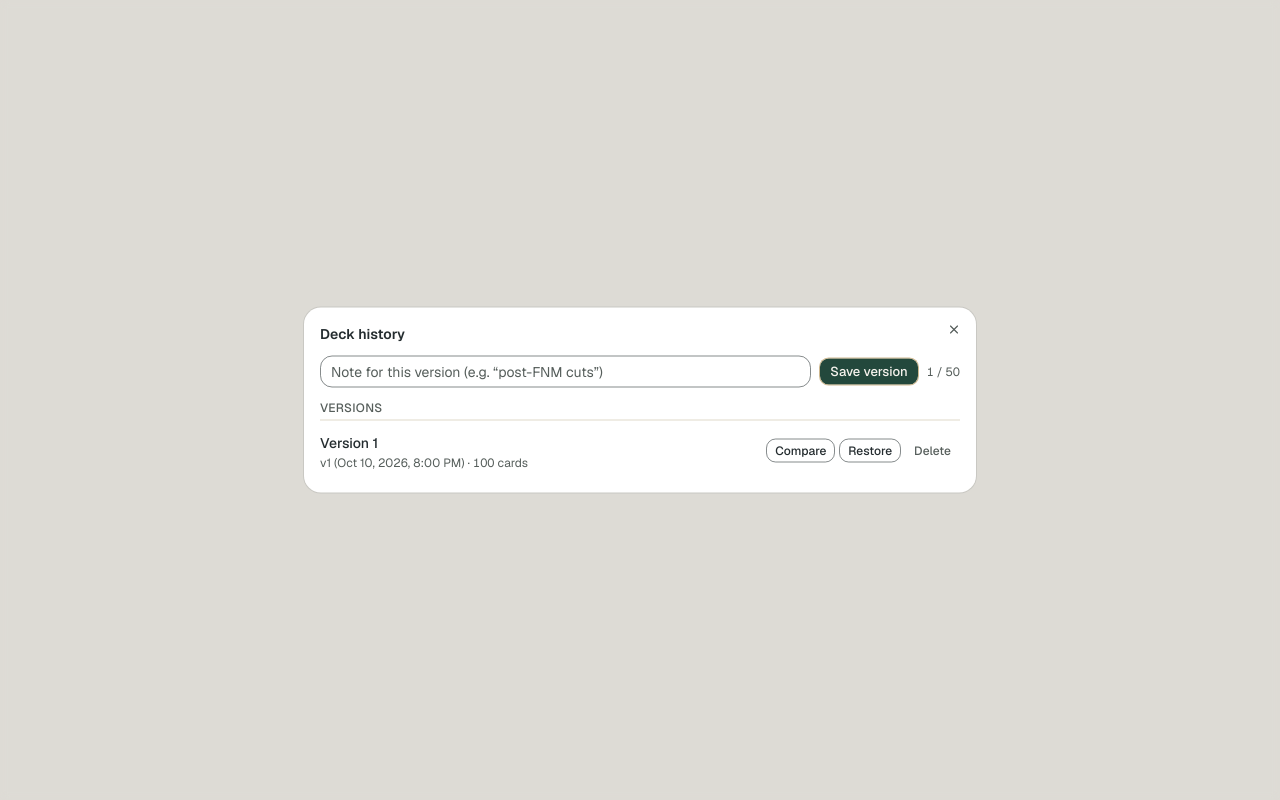
Test: HistoryDialog — Save version › posts the trimmed note, says what it saved, clears the note and reloads
Check: the dialog "Deck history" shows "1 / 50", box [304, 308, 976, 492]
Type "  post-FNM  " into the field named "Version note".
click(566, 372); type("  post-FNM  ")  # box [320, 356, 811, 388]
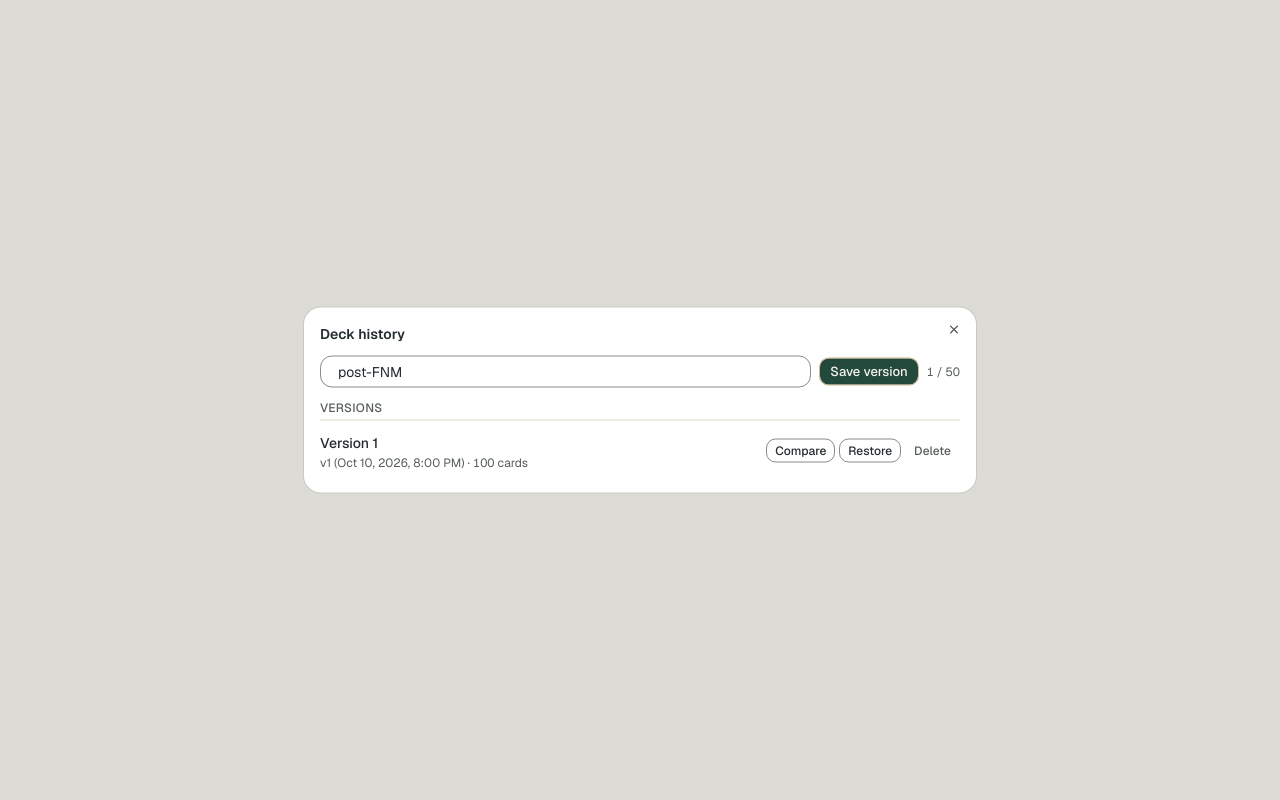
Click the button "Save version".
click(869, 372)  # box [819, 358, 919, 386]
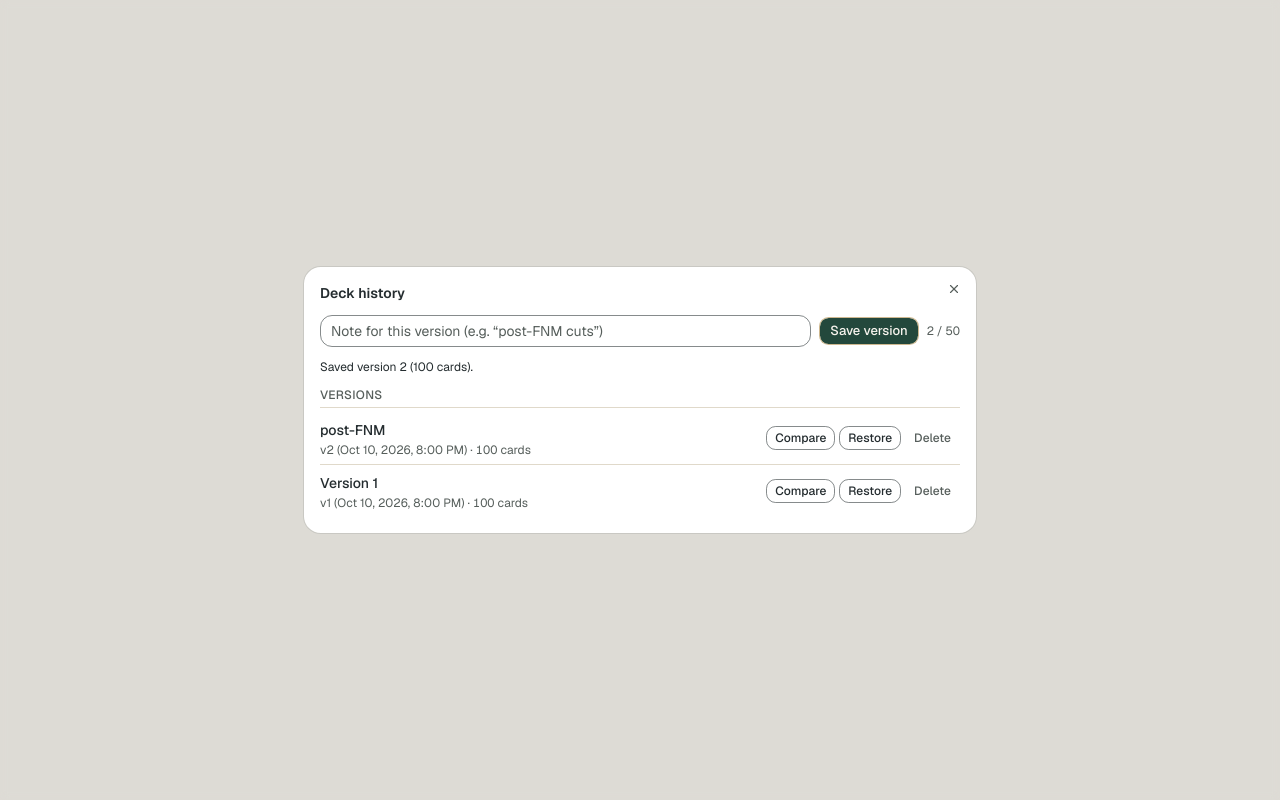
Check: the dialog "Deck history" shows "Saved version 2 (100 cards).", box [320, 359, 473, 375]
Check: the field named "Version note" is empty, box [320, 315, 811, 347]
Check: the dialog "Deck history" shows "2 / 50", box [304, 267, 976, 533]
